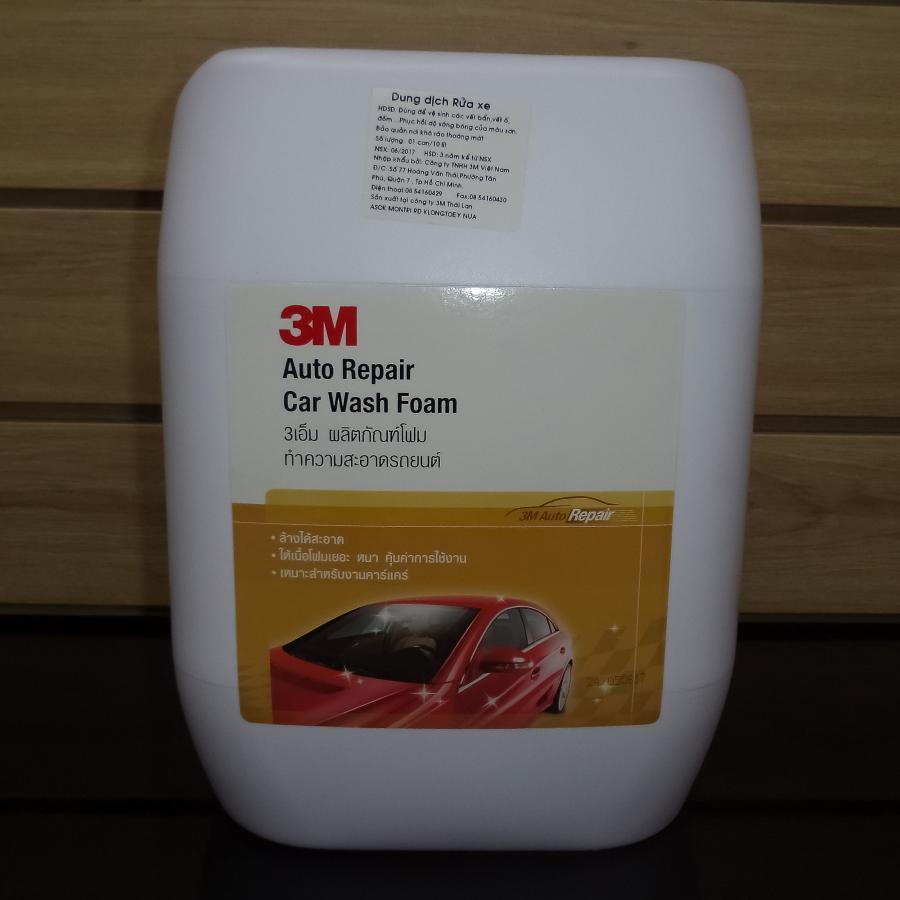3M: (275, 297, 365, 350)
